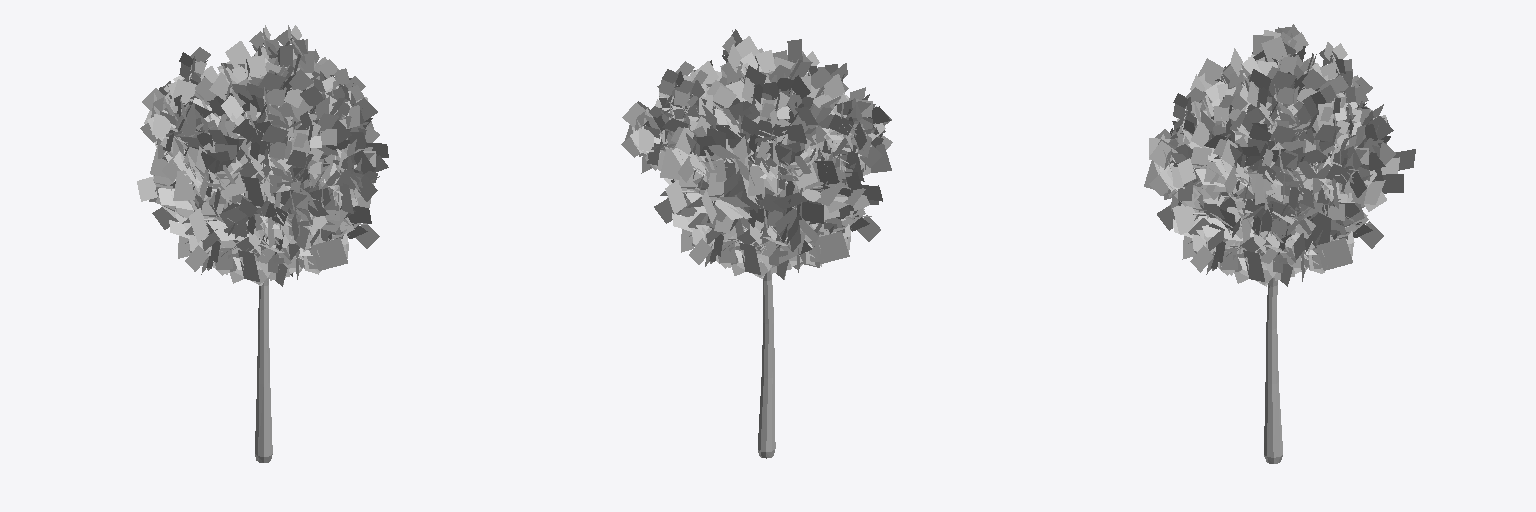
File: tree3.obj
3 views of the same model, side by side, from view 1: azimuth 30°, elevation 25°; view 2: azimuth 150°, elevation 25°; view 3: azimuth 270°, elevation 25° (orthographic).
Parts seen in each view (by area): view 1: tak002; view 2: tak002; view 3: tak002.
Part boxes in pixels (bbox=[...]): tak002: bbox=[137, 25, 388, 462]; tak002: bbox=[621, 29, 892, 458]; tak002: bbox=[1144, 24, 1415, 463].
Bounding box in the file's own units: 25.99 × 43.63 × 26.56.